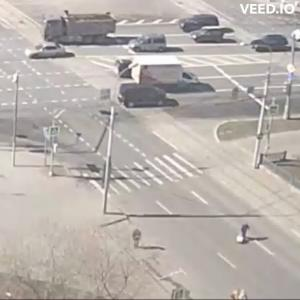car: (42, 14, 116, 50), (133, 56, 206, 92), (122, 86, 175, 112), (23, 45, 72, 65), (194, 27, 238, 45), (253, 34, 291, 54), (129, 36, 170, 52), (292, 29, 300, 43)
